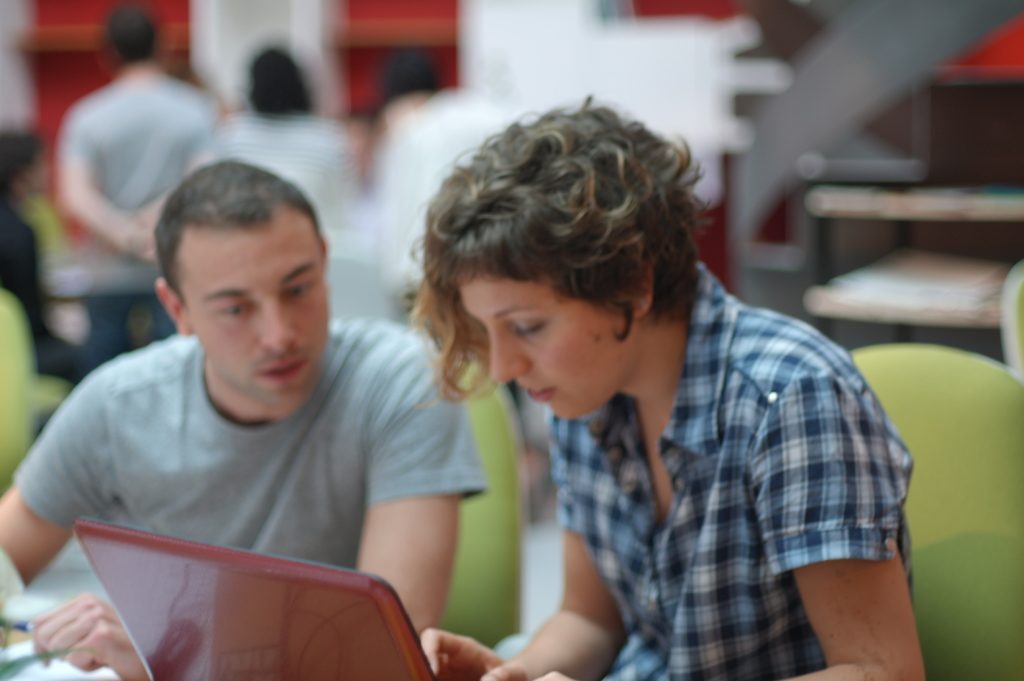Human_hand: (15, 581, 106, 675), (418, 625, 532, 680), (531, 671, 577, 680)
